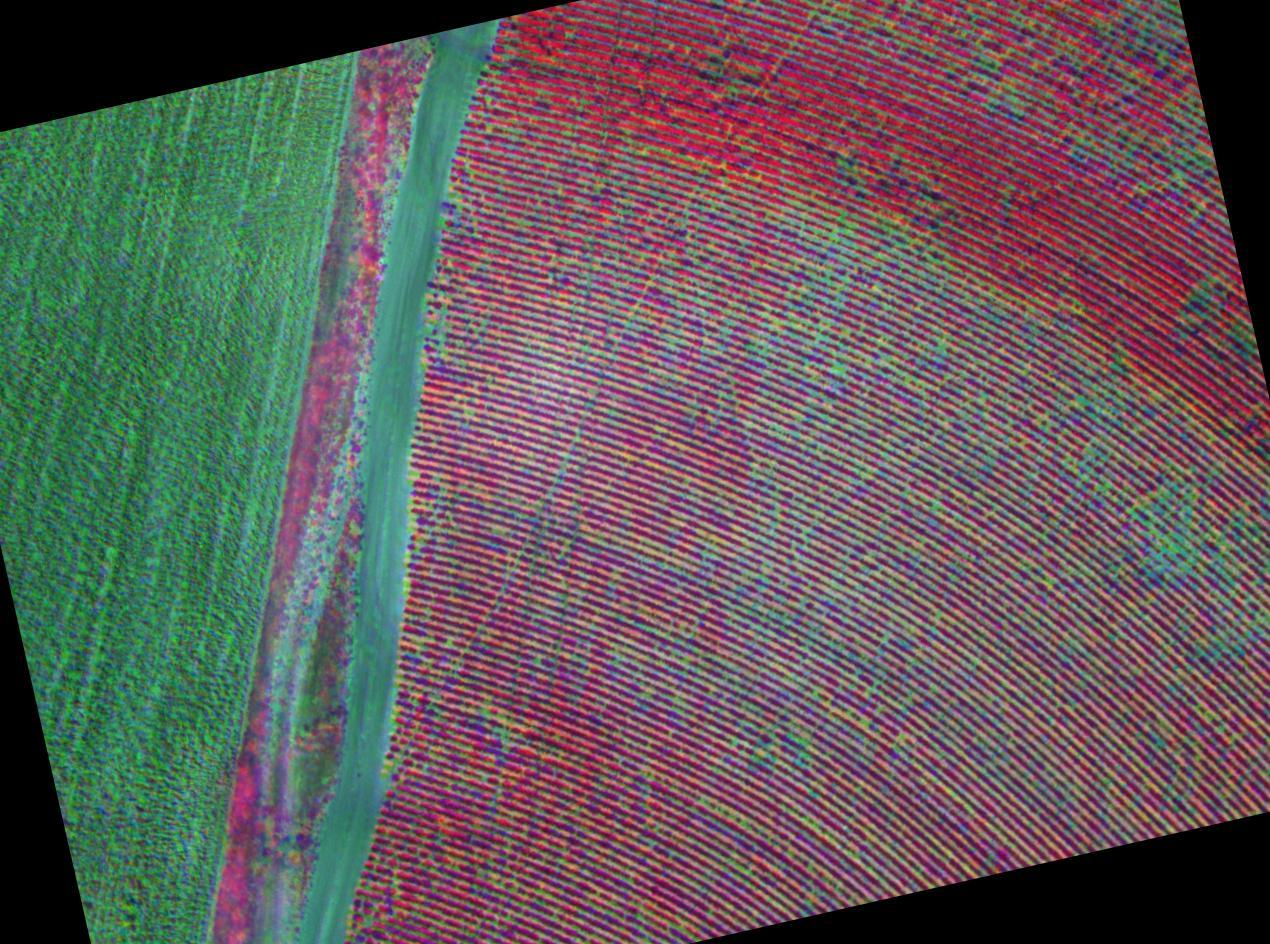dc: (441, 310, 446, 314), (669, 344, 673, 349), (444, 349, 448, 354), (1023, 439, 1028, 443), (435, 477, 439, 482), (418, 540, 422, 545), (1170, 549, 1174, 554), (834, 227, 838, 231), (703, 552, 707, 556), (1049, 580, 1053, 584), (617, 654, 621, 658), (536, 660, 540, 664), (482, 709, 486, 713), (501, 730, 505, 734), (607, 410, 612, 413), (824, 278, 827, 282), (775, 319, 778, 323), (465, 414, 468, 418), (411, 517, 414, 521)
